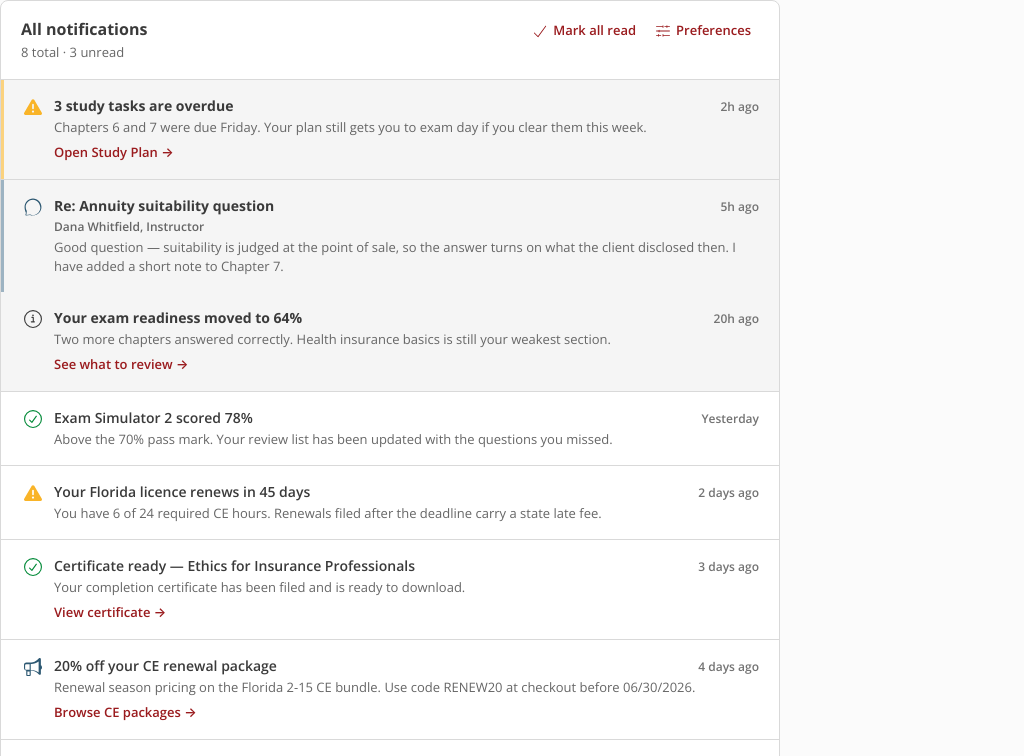
Test: notification preferences › opens from the header, beside Mark all read
What coordinates should you click on to do the following:
click the button "Preferences"
I would click on:
 (704, 31)
Its box is [648,17,759,44].
(page scrolled)
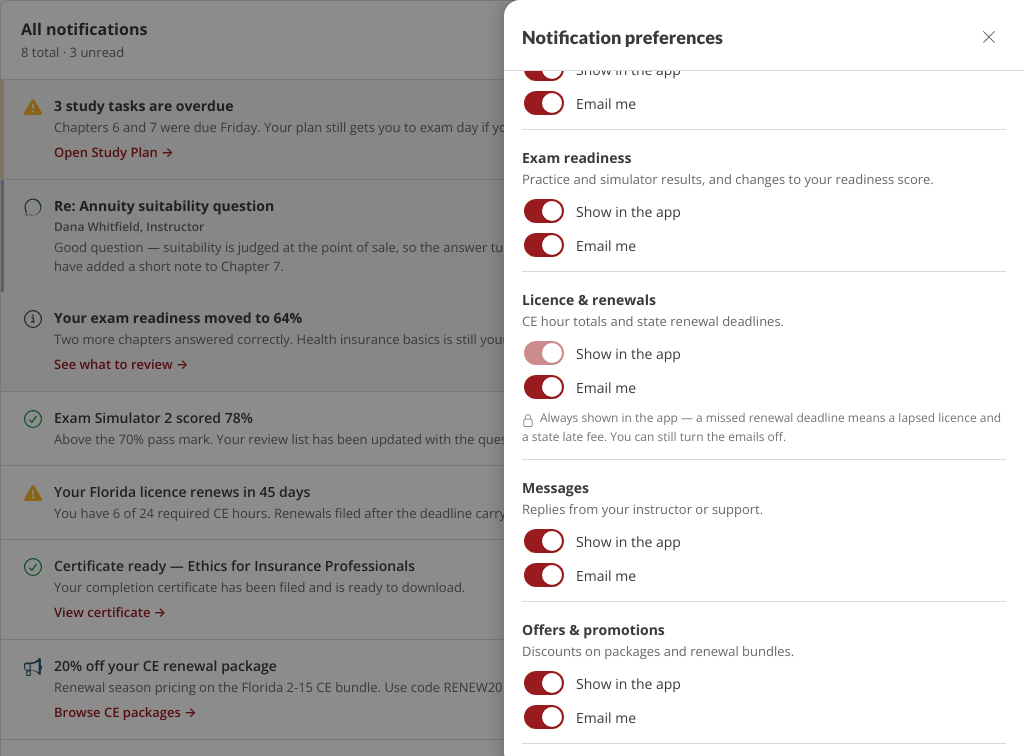
Result: the element "Exam readiness" is shown at [522,134,1006,272]
Result: the element "Licence & renewals" is shown at [522,276,1006,460]
Result: the element "Messages" is shown at [522,464,1006,602]
